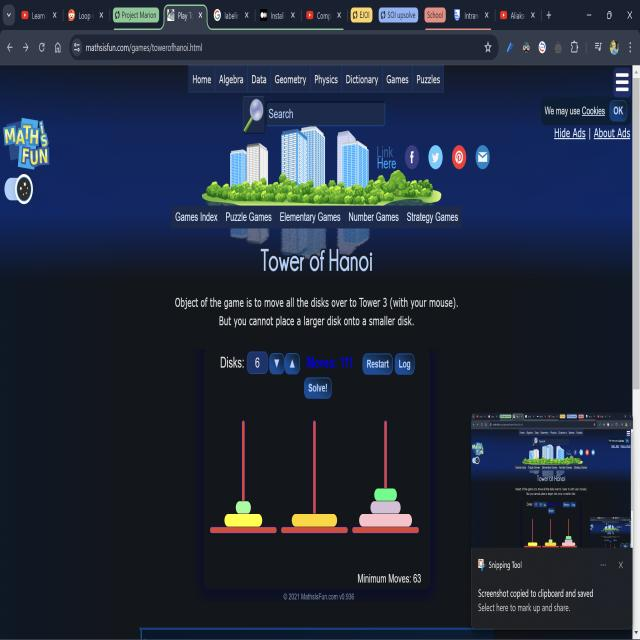disk1: (236, 501, 251, 514)
disk2: (374, 489, 397, 501)
disk3: (370, 501, 401, 514)
disk4: (225, 514, 262, 526)
disk5: (292, 514, 337, 527)
disk6: (359, 514, 412, 527)
